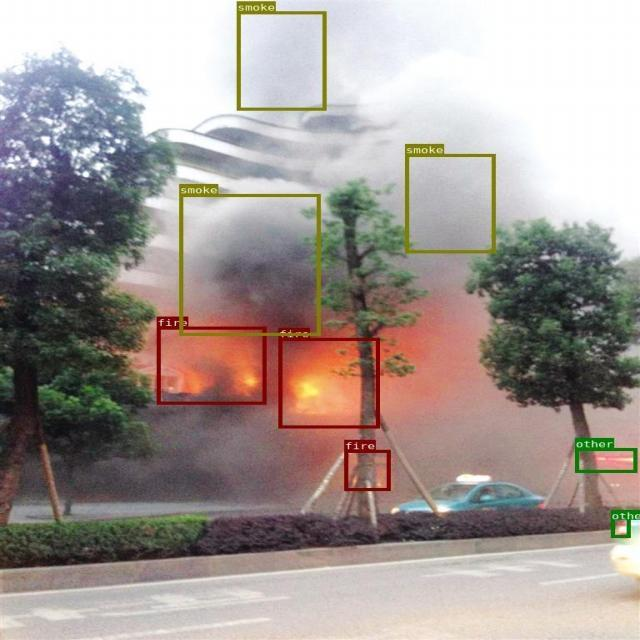fire: (278, 337, 379, 428), (156, 326, 265, 404), (344, 450, 389, 491)
smoke: (179, 194, 320, 336), (405, 154, 495, 252), (237, 11, 326, 110)
